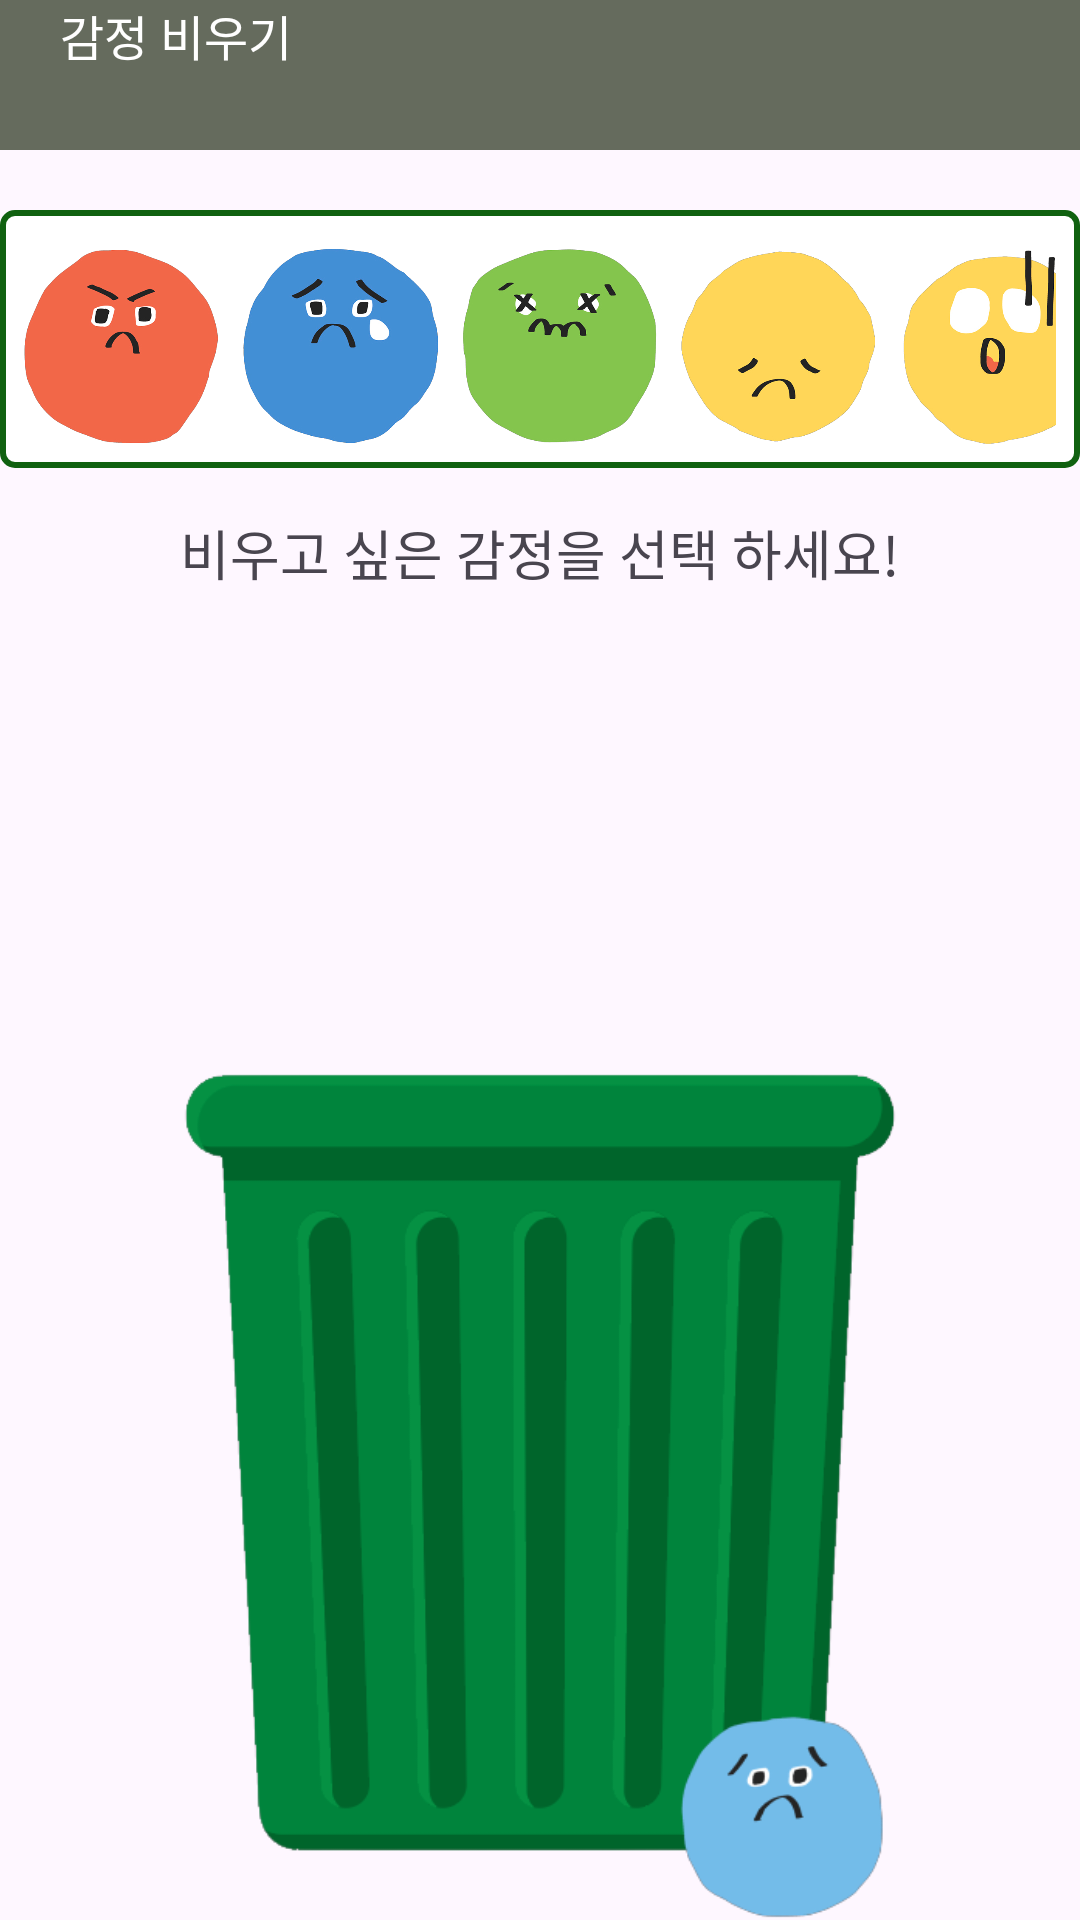

Icon bounding boxes for this 1080x1920 phone screenshot, format [left=x1, top=y1, right=x2, bottom=y2]:
angry: [left=24, top=250, right=218, bottom=443]
longface: [left=681, top=251, right=875, bottom=442]
sad: [left=243, top=249, right=438, bottom=443]
sosick: [left=463, top=249, right=656, bottom=443]
